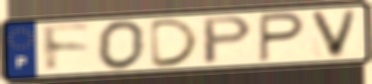D: (148, 17, 202, 69)
F: (40, 22, 95, 74)
O: (95, 19, 148, 71)
P: (201, 14, 256, 66), (257, 11, 307, 64)
V: (307, 8, 361, 60)
